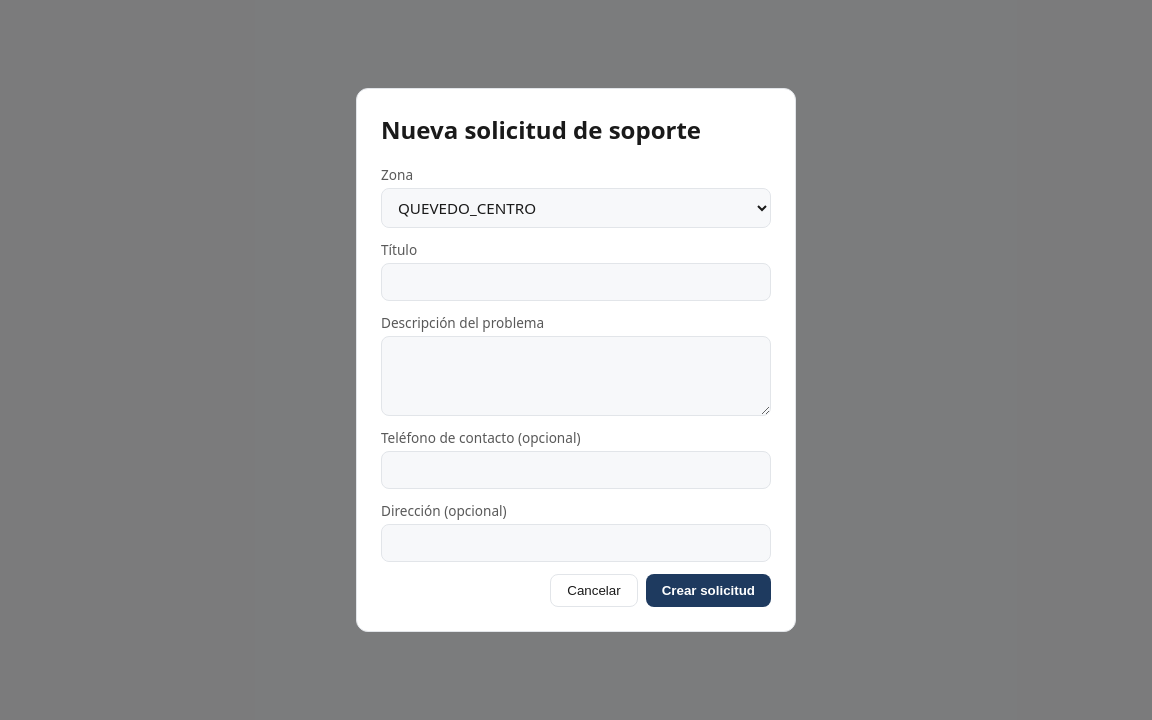
Test case: CreateTicketModal › muestra un error generico si la creacion falla
In the field labelled "Título": (576, 282) [381,264,771,302], type "Sin internet"
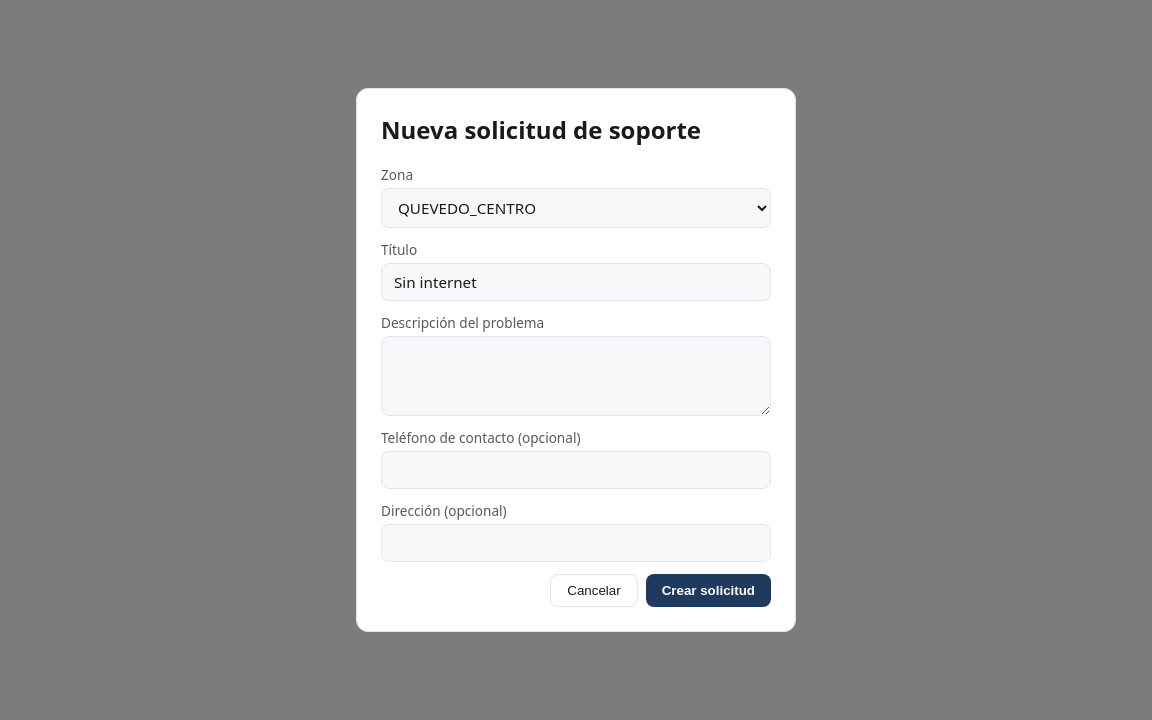
In the text box labelled "Descripción del problema": (576, 376) [381,336,771,416], type "Router apagado"
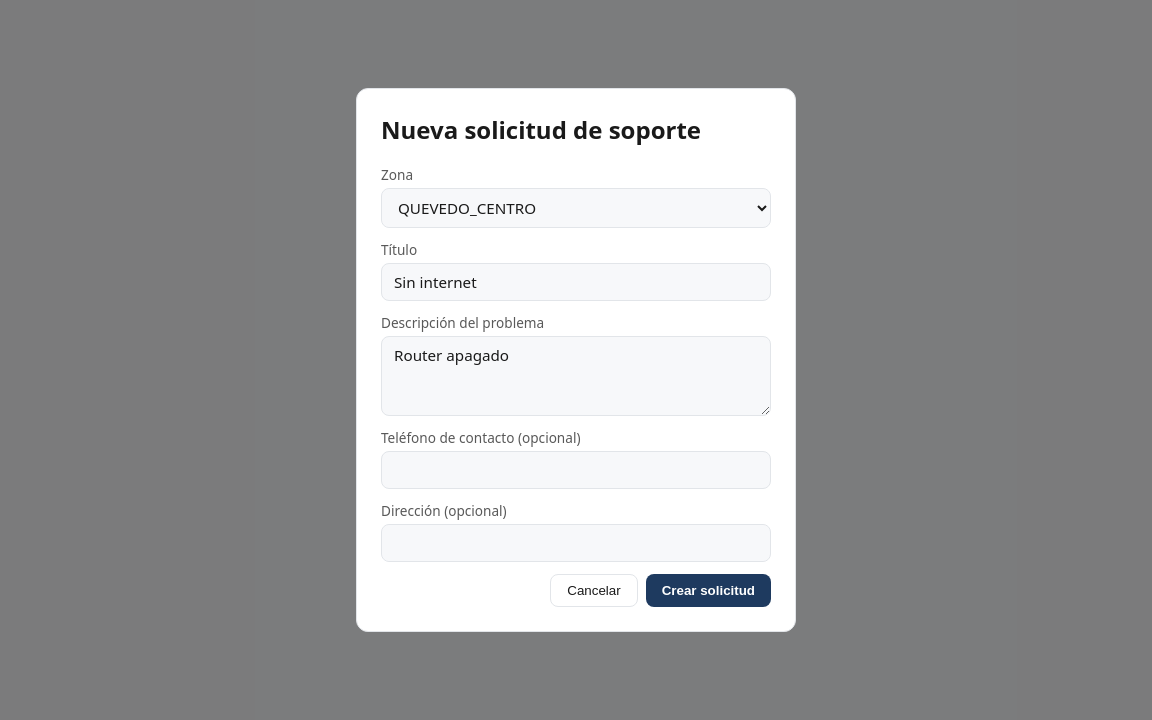
Click the button "Crear solicitud": (708, 591) [646,574,771,608]
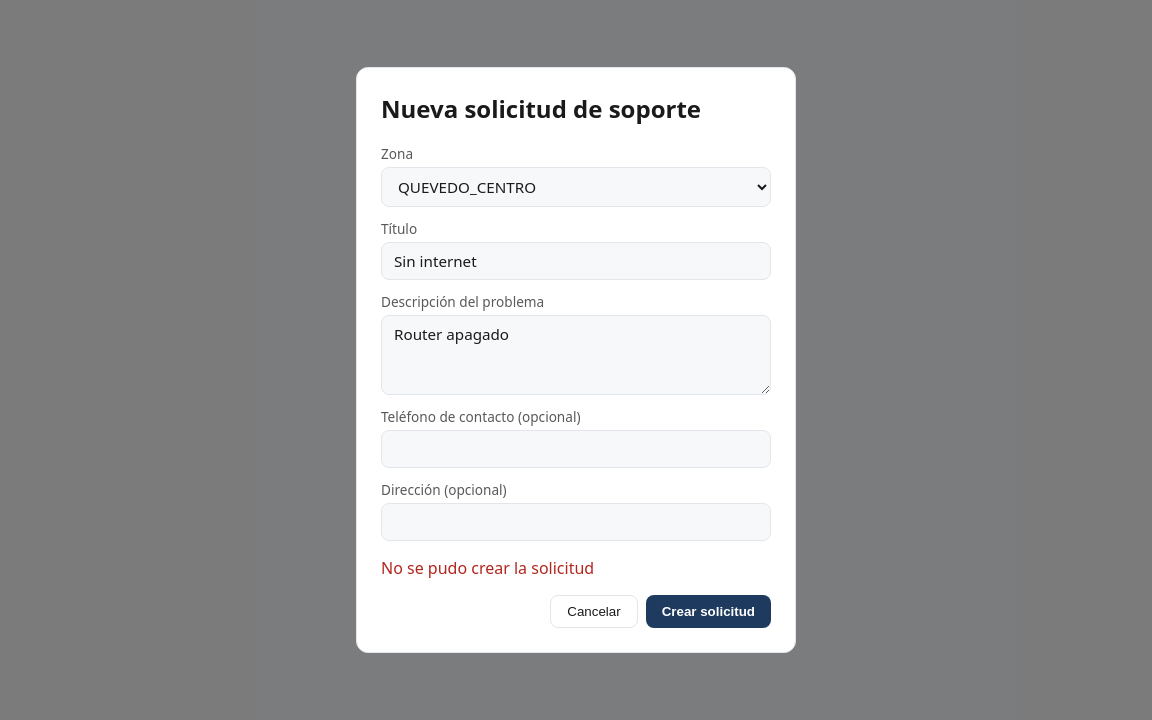
Now the text "No se pudo crear la solicitud" is shown, box [381,558,594,580]
